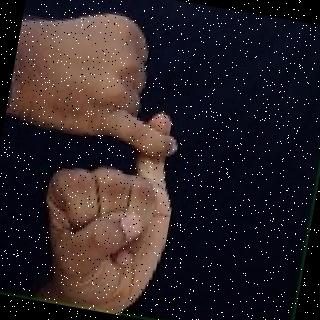S: (0, 0, 211, 312)
